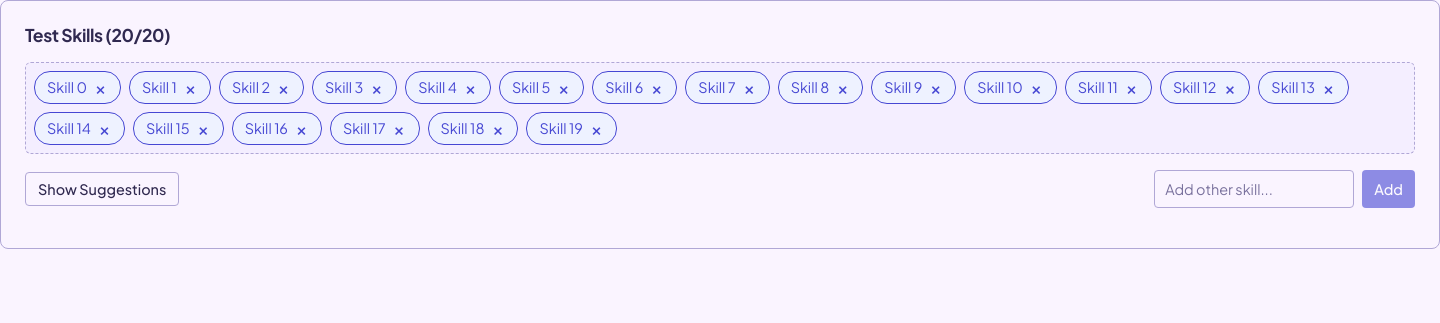
Test: SkillSelector Component › respects max skills limit (20)
This screenshot has width=1440, height=323.
In the field with placeholder "Add other skill...": (1254, 189) [1154,170,1354,208], type "New Skill"
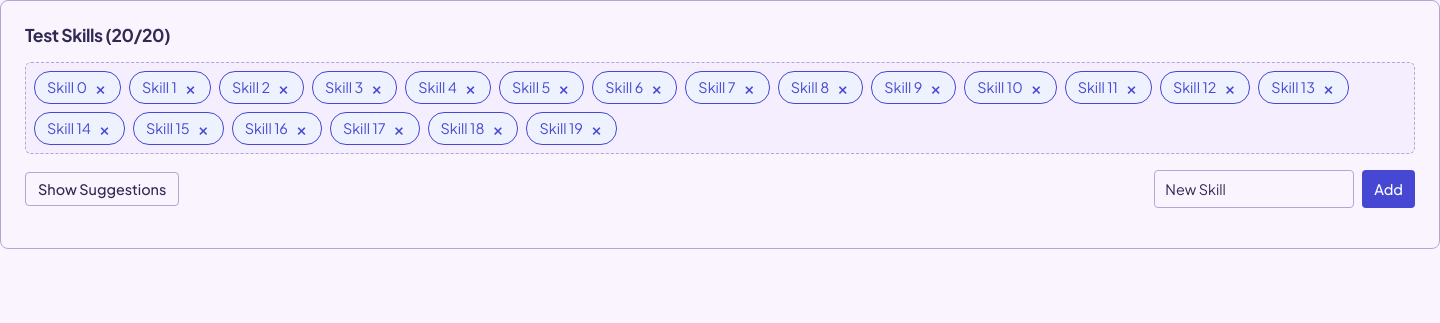
Click the button "Add": (1389, 189) [1362,170,1415,208]
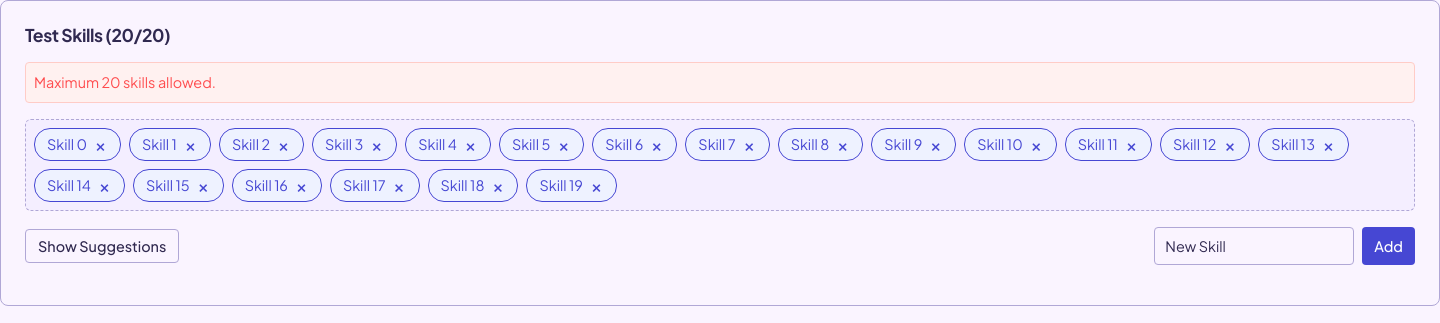
Expected: the text "Maximum 20 skills allowed." is shown, [25,62,1415,103]
